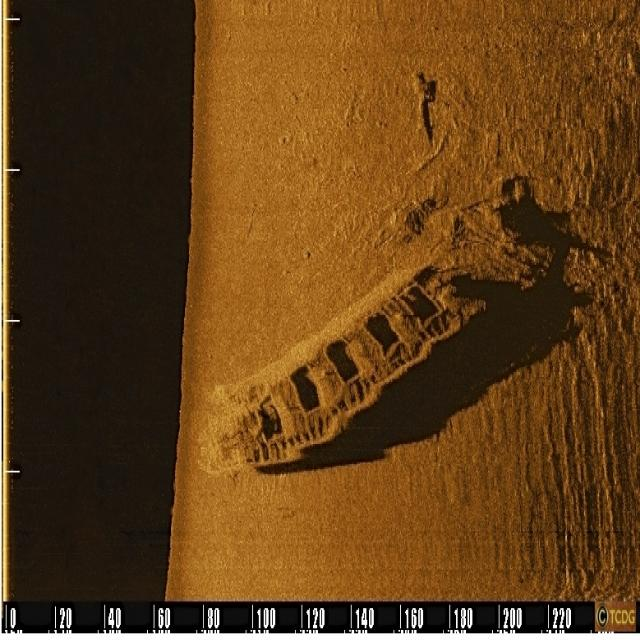ship: (206, 256, 490, 472)
